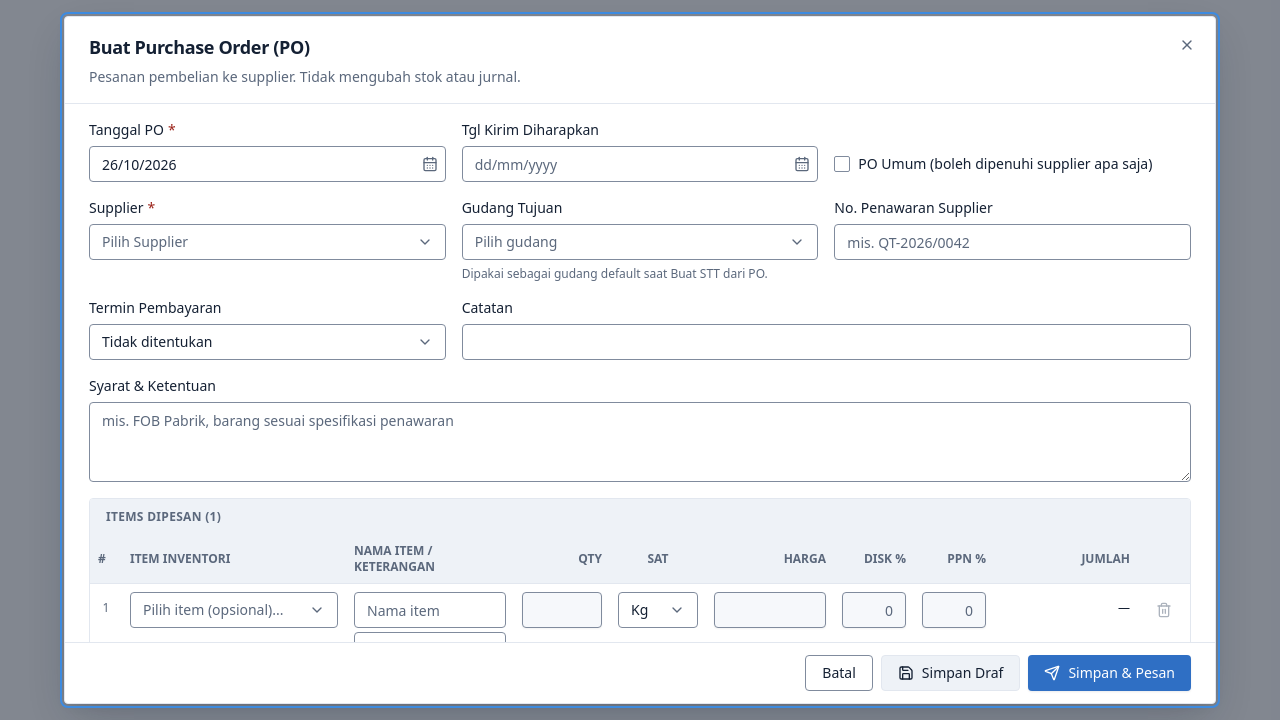
Test: PurchaseOrderModal › shows field errors instead of submitting an empty PO
Step 1. Click the button "Simpan Draf" → {"x": 951, "y": 673}, box [881,655,1020,691]
(page scrolled)
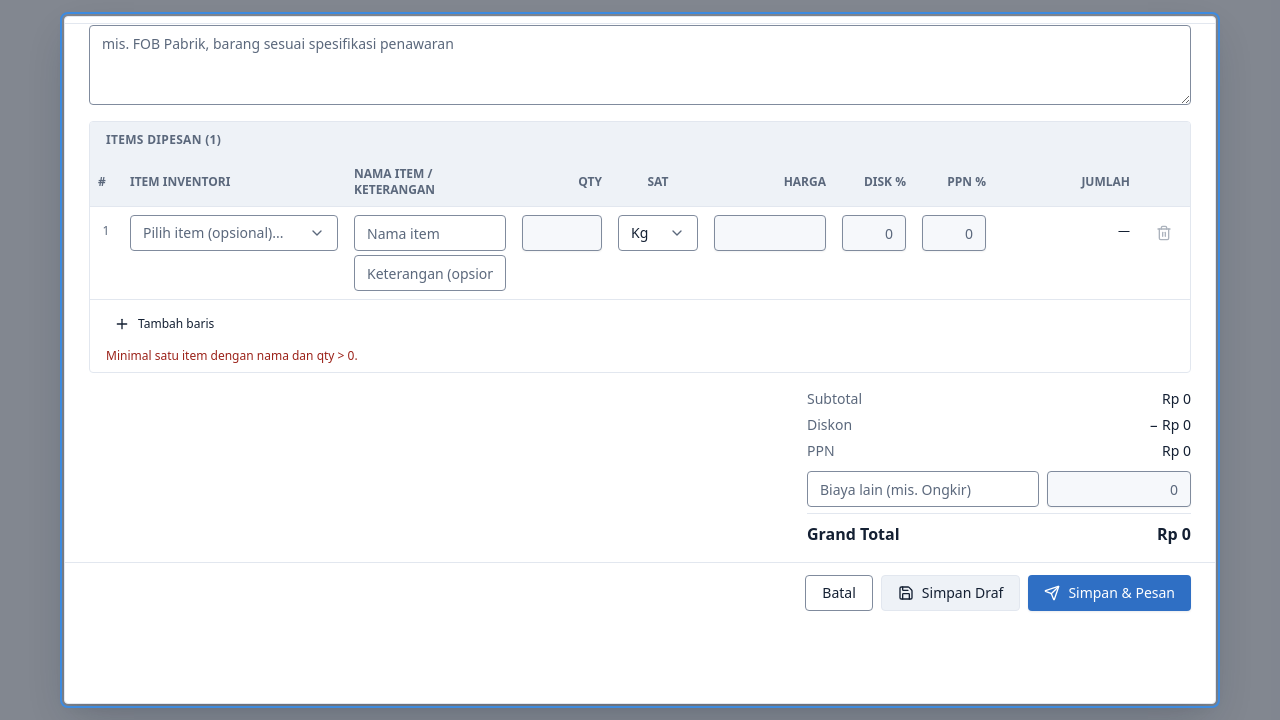
Check: the text "Minimal satu item dengan nama dan qty > 0." is shown, box [106,347,358,364]
